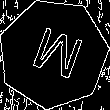M_S: (23, 22, 84, 85)
